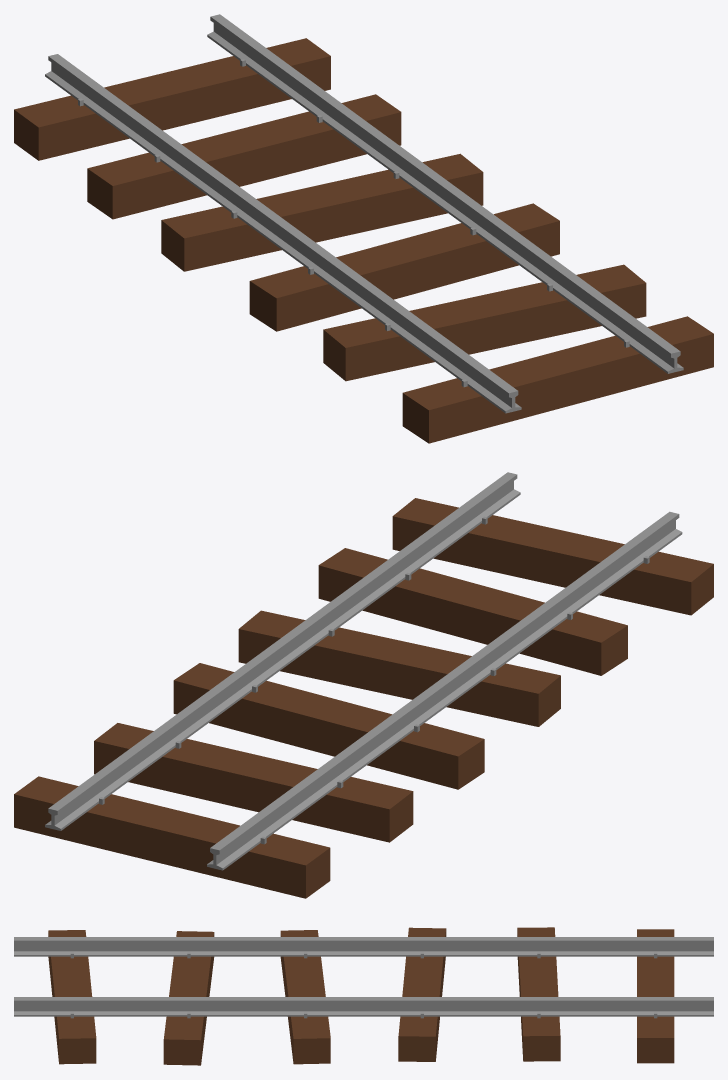
The model's file is mine_rails.glb.
3 views of the same model, one above another, from view 1: azimuth 30°, elevation 25°; view 2: azimuth 150°, elevation 25°; view 3: azimuth 270°, elevation 25° (orthographic). The views are drawn at different scales.
Visible parts, largest first — view 1: mine_rails; view 2: mine_rails; view 3: mine_rails.
Boxes of the visible parts, x1,y1,x2,y2 form: mine_rails: (14, 14, 713, 443); mine_rails: (14, 472, 713, 898); mine_rails: (14, 927, 713, 1065).
Size of the model in its own units: 1.14 by 0.19 by 3.
